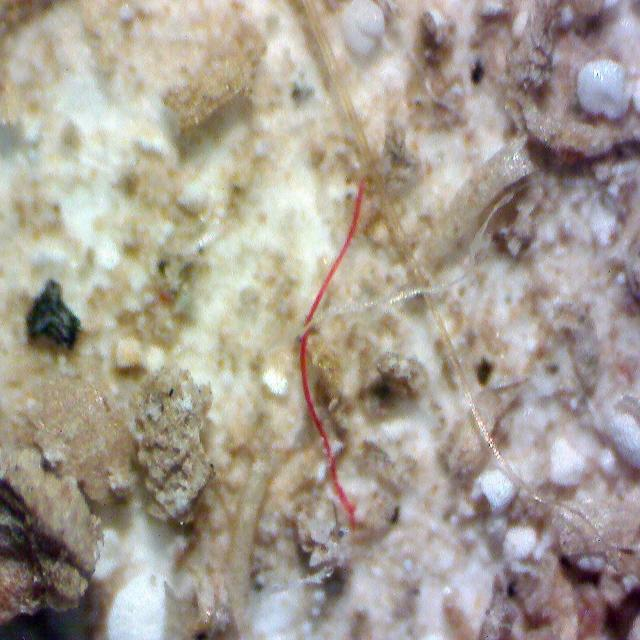microplastic: (298, 177, 367, 528)
